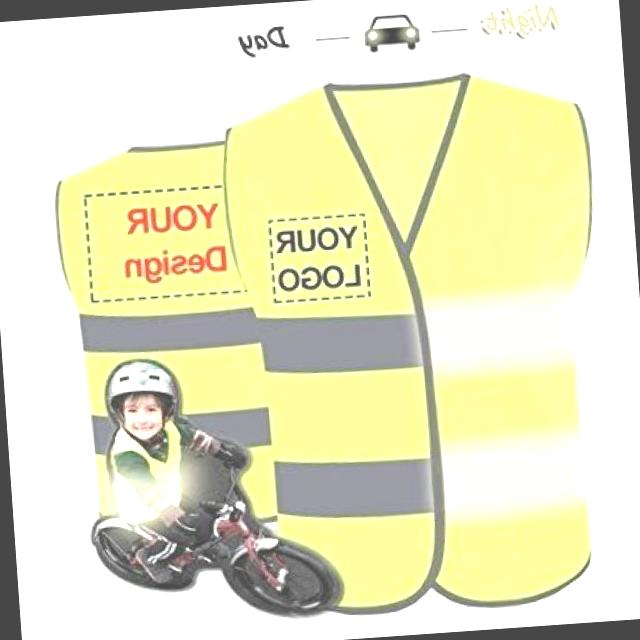vest: (136, 98, 602, 561)
